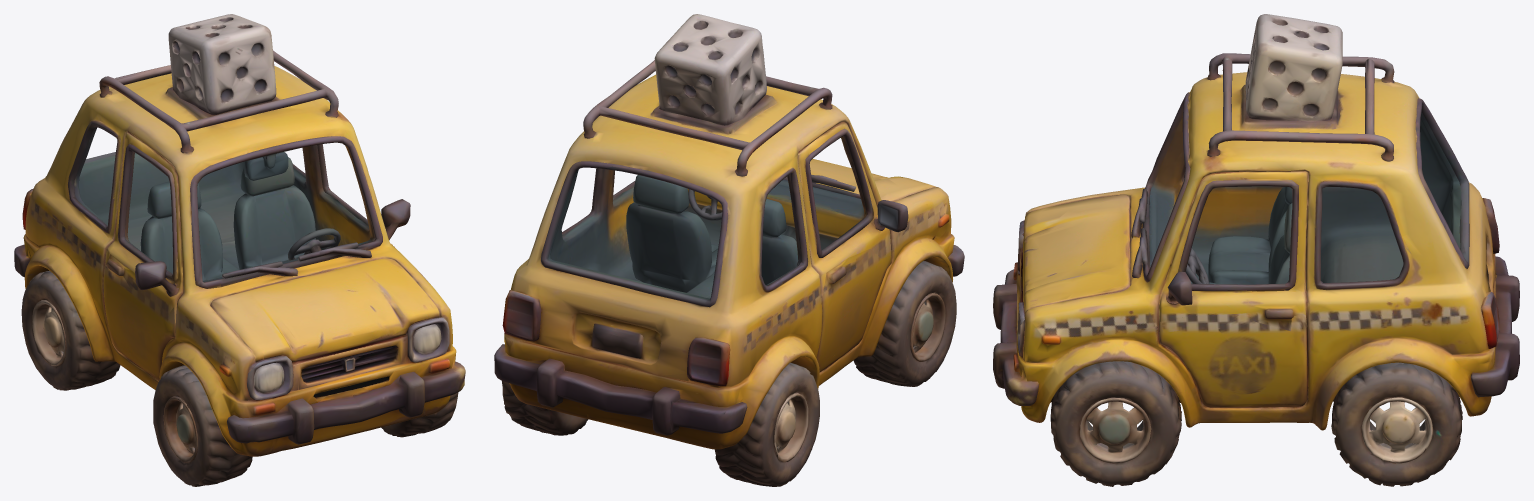
File: taxi.glb
The picture shows the model from 3 angles, left to right: view 1: azimuth 30°, elevation 25°; view 2: azimuth 150°, elevation 25°; view 3: azimuth 270°, elevation 25°; orthographic projection. The views are drawn at different scales.
Visible parts, largest first — view 1: tripo_part_0, tripo_part_1, tripo_part_3, tripo_part_10, tripo_part_2, tripo_part_20, tripo_part_6, tripo_part_14, tripo_part_11, tripo_part_17, tripo_part_7, tripo_part_22 (+9 smaller); view 2: tripo_part_0, tripo_part_1, tripo_part_3, tripo_part_12, tripo_part_2, tripo_part_6, tripo_part_20, tripo_part_11, tripo_part_16, tripo_part_26, tripo_part_4, tripo_part_17 (+5 smaller); view 3: tripo_part_0, tripo_part_19, tripo_part_5, tripo_part_4, tripo_part_3, tripo_part_1, tripo_part_11, tripo_part_8, tripo_part_9, tripo_part_10, tripo_part_12, tripo_part_18 (+4 smaller).
Part boxes in pixels (bbox=[...]): tripo_part_0: bbox=[23, 66, 456, 456]; tripo_part_1: bbox=[140, 157, 315, 281]; tripo_part_3: bbox=[168, 14, 276, 115]; tripo_part_10: bbox=[227, 354, 465, 444]; tripo_part_2: bbox=[153, 365, 252, 486]; tripo_part_20: bbox=[103, 254, 175, 380]; tripo_part_6: bbox=[21, 270, 120, 390]; tripo_part_14: bbox=[190, 136, 382, 288]; tripo_part_11: bbox=[99, 50, 338, 153]; tripo_part_17: bbox=[118, 144, 177, 281]; tripo_part_7: bbox=[163, 396, 197, 462]; tripo_part_22: bbox=[247, 356, 293, 399]; tripo_part_0: bbox=[504, 74, 954, 449]; tripo_part_1: bbox=[626, 175, 798, 292]; tripo_part_3: bbox=[654, 14, 766, 125]; tripo_part_12: bbox=[494, 344, 680, 435]; tripo_part_2: bbox=[853, 261, 956, 386]; tripo_part_6: bbox=[714, 362, 819, 486]; tripo_part_20: bbox=[816, 234, 891, 372]; tripo_part_11: bbox=[583, 60, 832, 176]; tripo_part_16: bbox=[541, 161, 727, 307]; tripo_part_26: bbox=[670, 401, 747, 433]; tripo_part_4: bbox=[502, 381, 588, 435]; tripo_part_17: bbox=[805, 128, 873, 257]; tripo_part_0: bbox=[1013, 72, 1497, 430]; tripo_part_19: bbox=[1159, 313, 1308, 407]; tripo_part_5: bbox=[1050, 361, 1181, 486]; tripo_part_4: bbox=[1331, 362, 1462, 486]; tripo_part_3: bbox=[1245, 14, 1342, 121]; tripo_part_1: bbox=[1208, 187, 1292, 284]; tripo_part_11: bbox=[1207, 53, 1394, 161]; tripo_part_8: bbox=[1361, 397, 1432, 463]; tripo_part_9: bbox=[1080, 397, 1151, 463]; tripo_part_10: bbox=[993, 269, 1039, 405]; tripo_part_12: bbox=[1471, 275, 1519, 397]; tripo_part_18: bbox=[1177, 179, 1298, 291].
Bounding box in the file's own units: 0.6278 × 0.8148 × 0.9818.
Materials: 1 (1 with a texture image).
